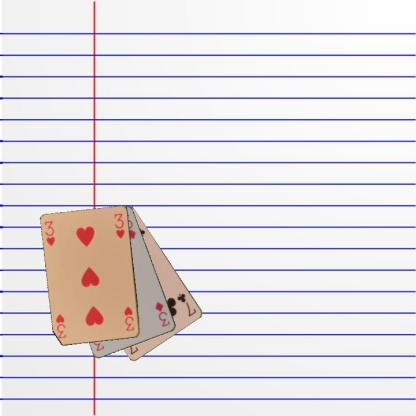3d: (152, 299, 172, 328)
3h: (42, 218, 56, 248), (122, 303, 136, 332)
7c: (174, 290, 198, 318)
